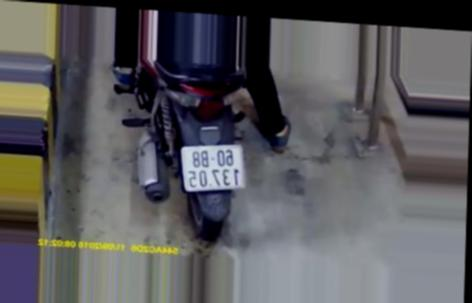License_Plate: (175, 138, 254, 199)
